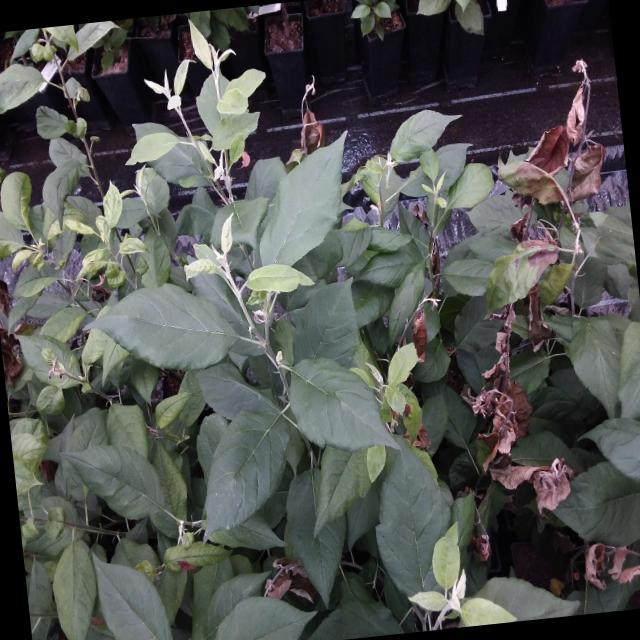-FireBlight-: (463, 282, 571, 515), (527, 58, 604, 203), (579, 537, 640, 590), (266, 561, 314, 603), (403, 308, 427, 360), (297, 109, 324, 148)
